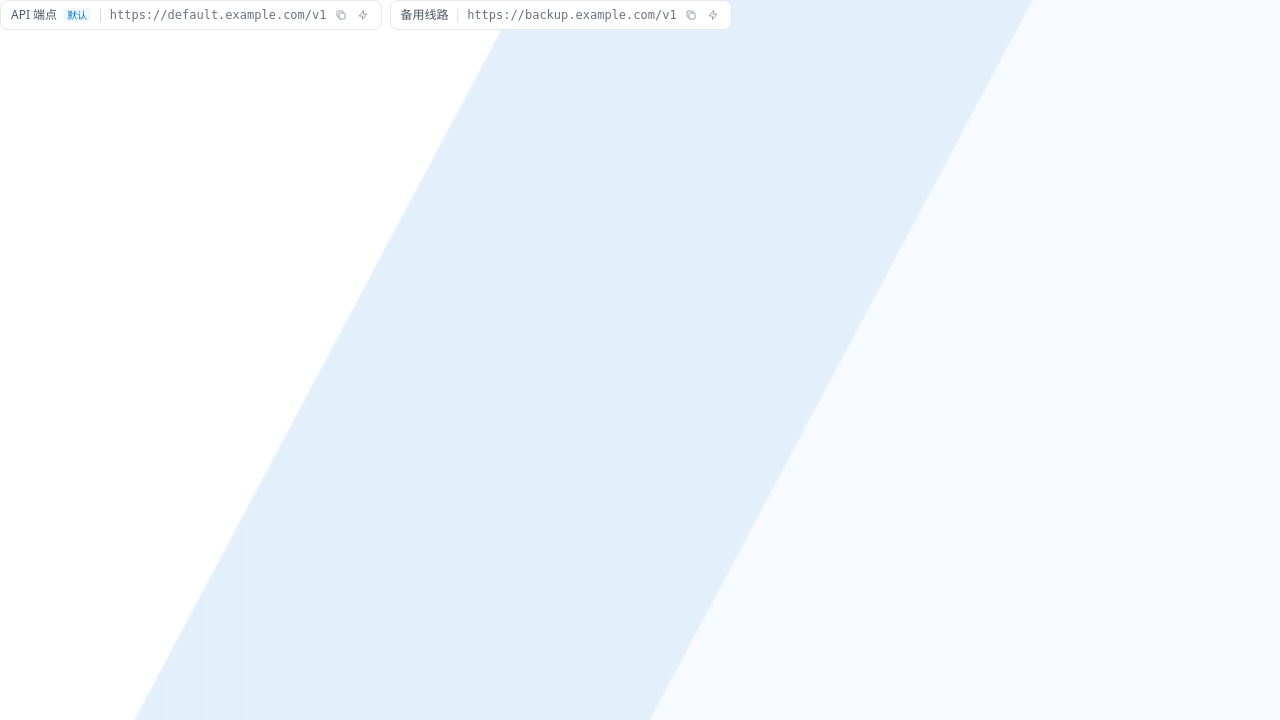
Test: EndpointPopover › 说明提示挂载到页面根节点并可由 URL 聚焦触发
The image size is (1280, 720).
Focus the button "https://backup.example.com/v1": coordinates (572, 15) [467,7,677,23]
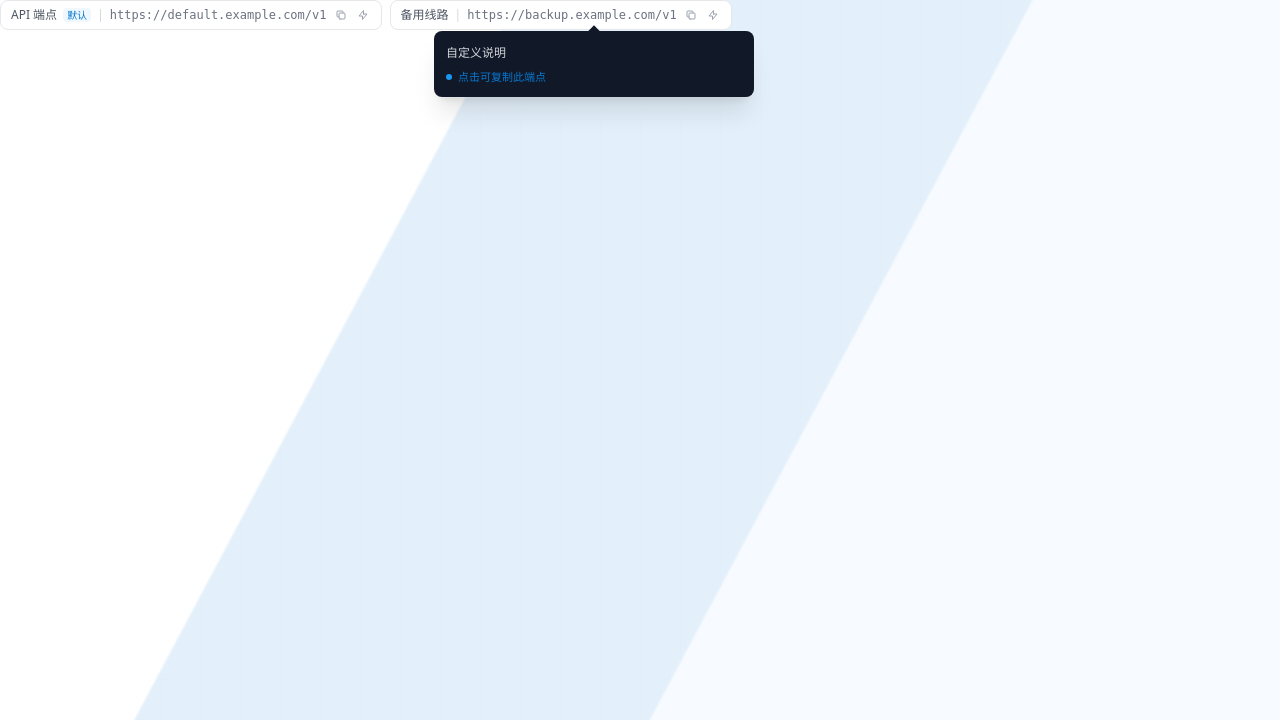
Check: the tooltip "自定义说明 点击可复制此端点" is shown, box [434,31,754,97]
